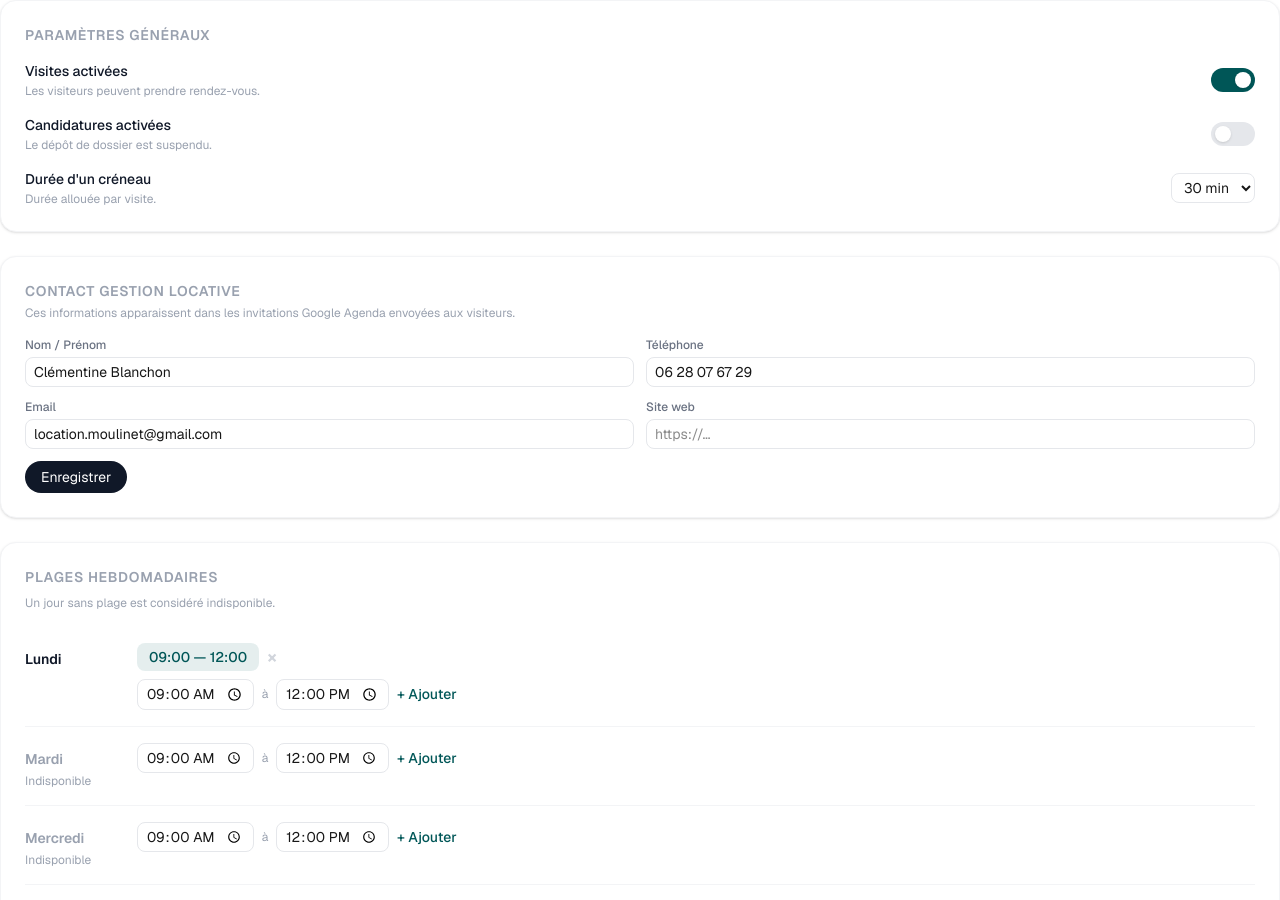
Scenario: AvailabilityManager — contact › affiche un message d'erreur si l'enregistrement échoue
Step 1. Click the button "Enregistrer" → (76, 477), box [25,461,127,493]
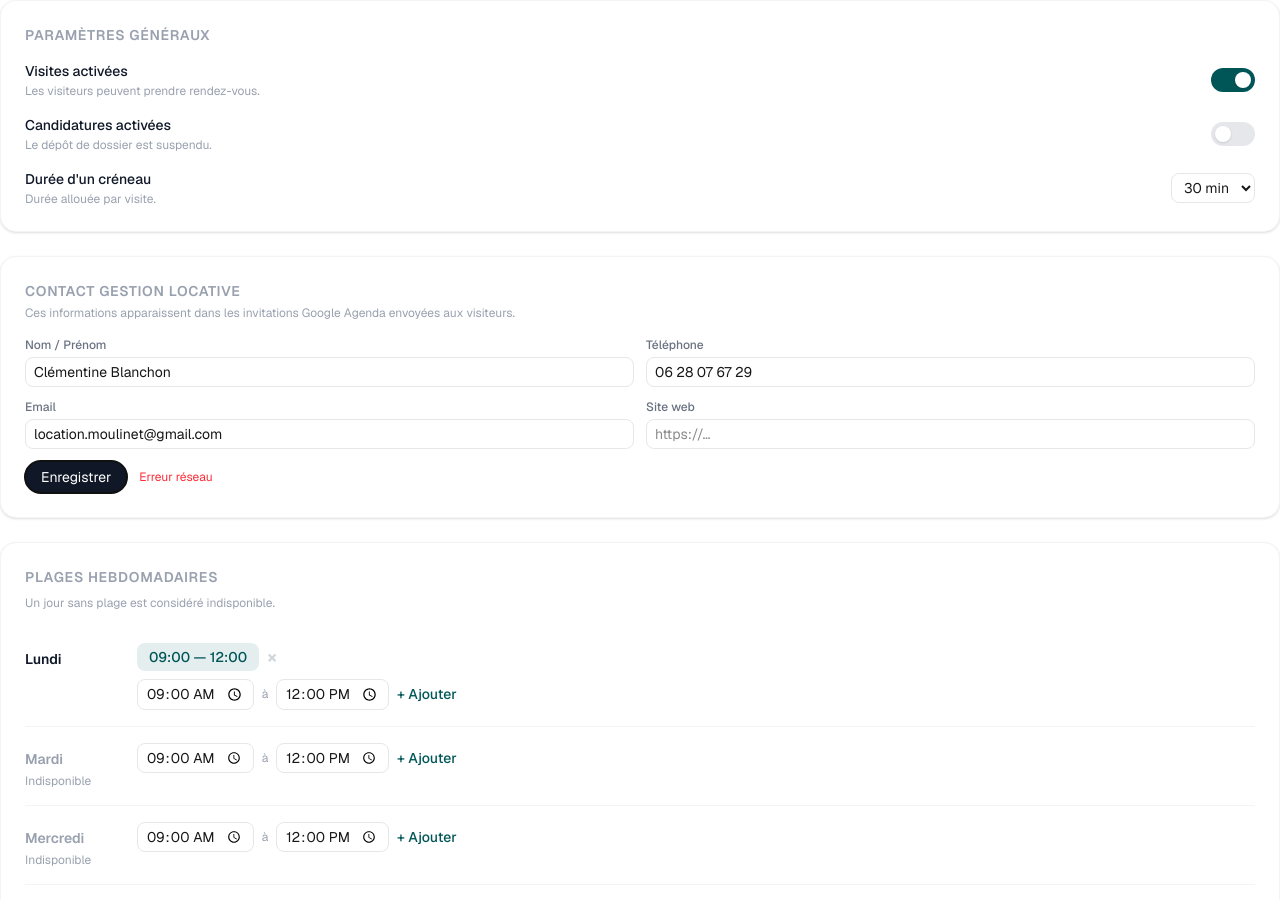
Check: the text "Erreur réseau" is shown, box [139,469,213,485]
